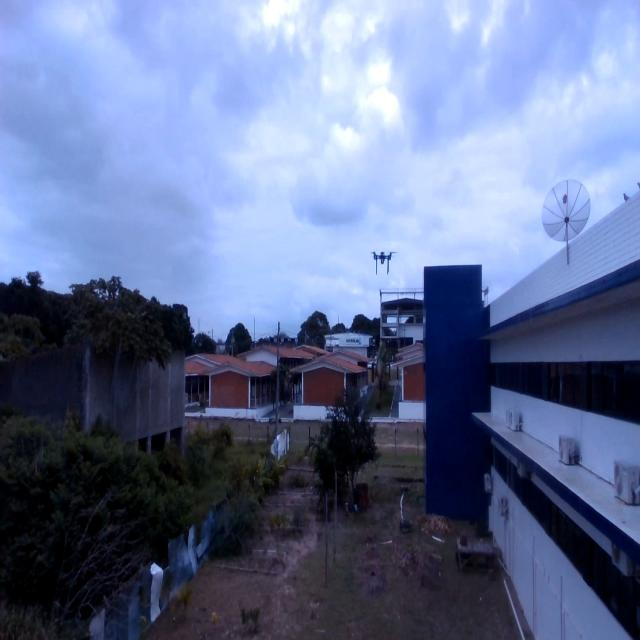-uav-: (361, 238, 403, 286)
